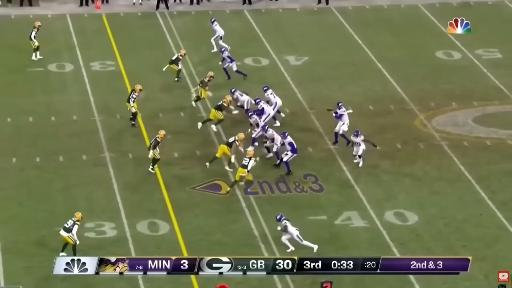Helmet: (234, 132, 246, 142), (132, 84, 143, 93), (244, 149, 255, 157), (74, 212, 82, 222), (158, 128, 166, 138), (206, 72, 215, 80), (225, 95, 233, 104), (253, 95, 261, 104), (282, 130, 290, 139), (275, 214, 283, 222), (260, 125, 268, 133), (229, 87, 238, 94), (34, 21, 42, 28), (353, 129, 360, 137), (262, 87, 271, 93), (180, 49, 187, 56), (248, 112, 255, 119), (210, 17, 216, 24), (219, 48, 226, 54), (337, 102, 343, 109)
Jersey: (264, 129, 282, 152), (258, 101, 273, 123), (233, 91, 251, 109), (264, 129, 282, 145), (280, 219, 298, 235), (282, 136, 297, 154), (265, 90, 281, 105), (62, 219, 79, 233), (334, 107, 348, 122), (240, 157, 255, 171), (211, 21, 225, 36), (127, 89, 138, 107), (222, 50, 235, 65), (148, 136, 161, 150), (351, 135, 365, 147), (225, 137, 239, 149), (250, 115, 262, 129), (169, 54, 182, 66), (199, 77, 212, 89), (29, 26, 39, 41), (214, 101, 227, 112)
Player: (276, 214, 318, 252), (206, 133, 244, 170), (227, 150, 258, 191), (198, 96, 234, 131), (251, 124, 282, 160), (328, 102, 352, 146), (274, 132, 297, 175), (60, 212, 82, 256), (351, 130, 377, 166), (263, 86, 284, 126), (220, 48, 247, 79), (192, 71, 214, 107), (148, 130, 166, 172), (163, 50, 186, 81), (210, 18, 230, 52), (127, 85, 142, 127), (230, 88, 252, 113), (30, 22, 42, 60), (255, 98, 273, 123), (247, 111, 263, 133), (247, 111, 262, 132)
